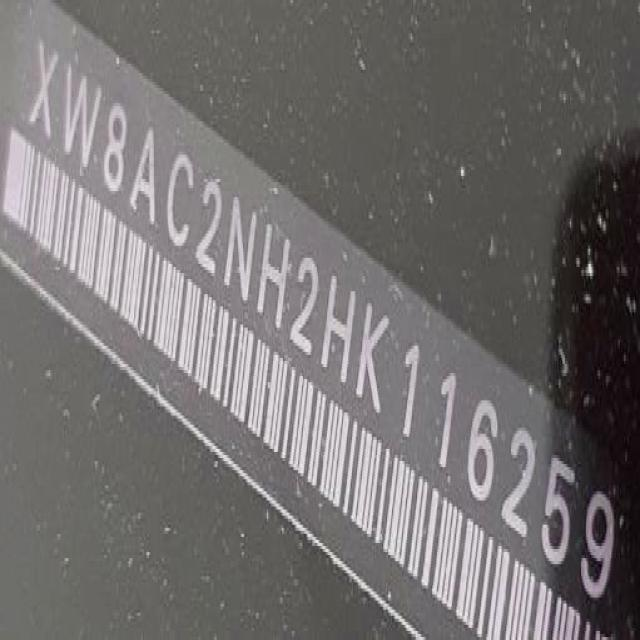1: (391, 324, 426, 461), (426, 353, 462, 485)
2: (496, 412, 540, 555), (287, 237, 325, 370), (191, 165, 226, 291)
5: (536, 444, 582, 585)
6: (460, 383, 503, 512)
8: (98, 94, 132, 207)
9: (574, 476, 619, 616)
A: (126, 116, 163, 238)
C: (160, 139, 198, 263)
H: (315, 261, 363, 392), (251, 213, 296, 340)
K: (351, 289, 395, 427)
N: (218, 184, 262, 318)
W: (56, 52, 109, 180)
X: (26, 31, 62, 146)
